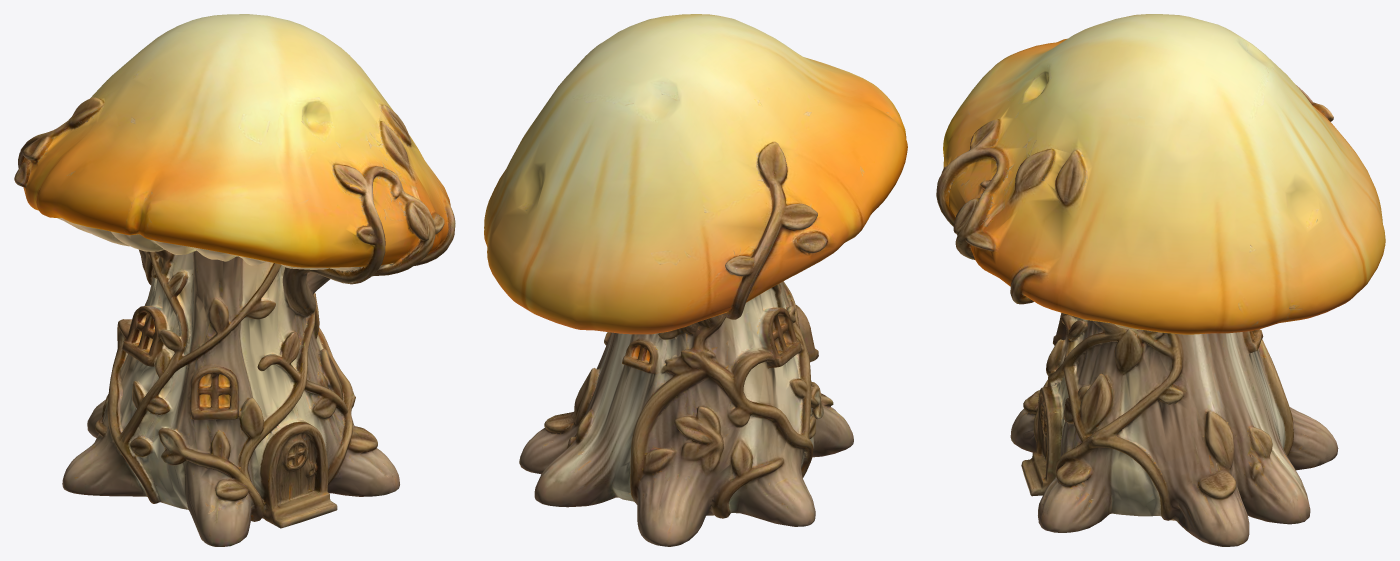
File: mushroomLamp.glb
3 renders of one model, left to right at view 1: azimuth 30°, elevation 25°; view 2: azimuth 150°, elevation 25°; view 3: azimuth 270°, elevation 25°, orthographic. The views are drawn at different scales.
Visible parts, largest first — view 1: Mesh_0; view 2: Mesh_0; view 3: Mesh_0.
Part boxes in pixels (x1,y1,x2,y2): Mesh_0: [14, 14, 455, 546]; Mesh_0: [484, 14, 907, 546]; Mesh_0: [936, 14, 1385, 546].
Bounding box in the file's own units: 0.8754 × 1 × 0.8997.
1 material, 1 textured.
